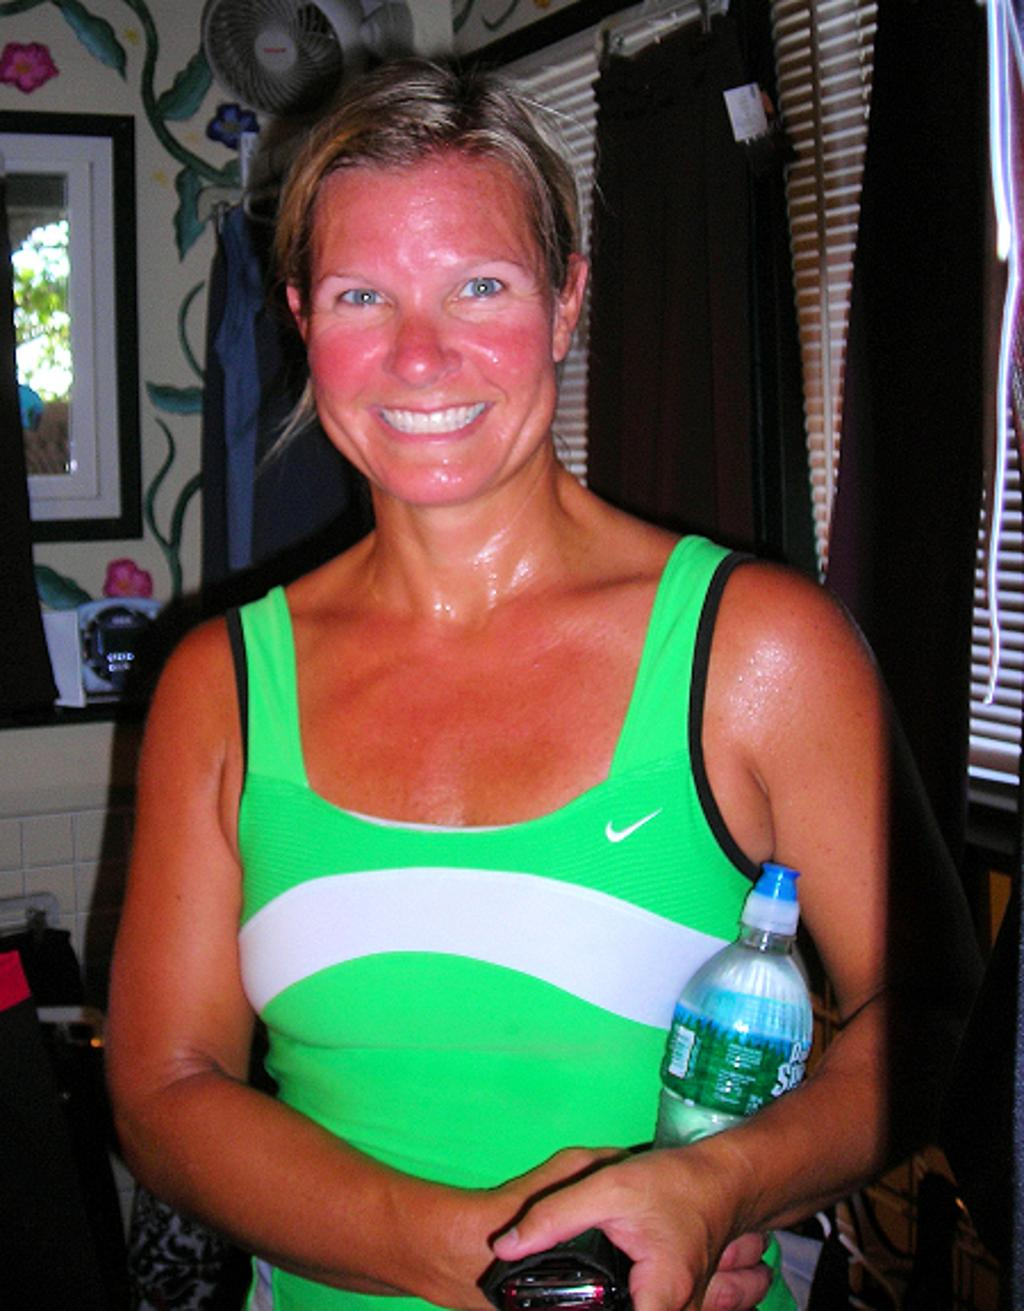face: (310, 166, 558, 504)
